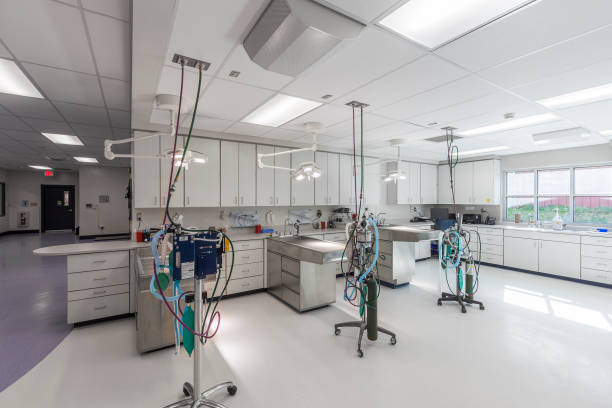cabinet: (131, 128, 367, 209), (390, 160, 501, 205)
computer: (429, 207, 450, 222), (461, 213, 480, 223)
counter: (33, 225, 466, 327), (430, 213, 612, 286), (131, 246, 218, 356), (266, 234, 347, 315), (369, 224, 444, 290)
countertop: (39, 223, 340, 258), (413, 217, 611, 237)
dispenser: (550, 207, 564, 231)
door_handle: (64, 205, 73, 216)
faucet: (235, 213, 255, 230), (226, 224, 262, 231), (375, 210, 389, 226), (290, 219, 303, 236), (482, 209, 496, 223), (409, 207, 422, 221)
handle: (289, 193, 299, 208), (467, 195, 478, 205), (161, 196, 170, 208), (411, 196, 418, 207), (185, 196, 192, 206), (232, 196, 239, 206), (275, 196, 281, 207), (346, 194, 352, 205), (153, 196, 159, 206), (240, 195, 246, 205), (324, 196, 330, 206), (404, 196, 410, 206), (270, 196, 274, 207), (241, 284, 253, 287), (240, 270, 252, 273), (239, 244, 251, 247), (240, 256, 252, 259), (94, 291, 106, 294), (95, 306, 107, 309), (94, 278, 106, 281), (95, 260, 107, 263), (485, 257, 495, 260), (485, 238, 495, 241), (485, 230, 495, 233), (485, 248, 495, 251), (597, 262, 607, 265), (597, 276, 607, 279), (596, 251, 606, 254), (597, 240, 607, 243), (539, 240, 543, 247), (533, 241, 537, 248)
surgical_light: (164, 150, 209, 170), (287, 162, 324, 183), (381, 171, 406, 185)
